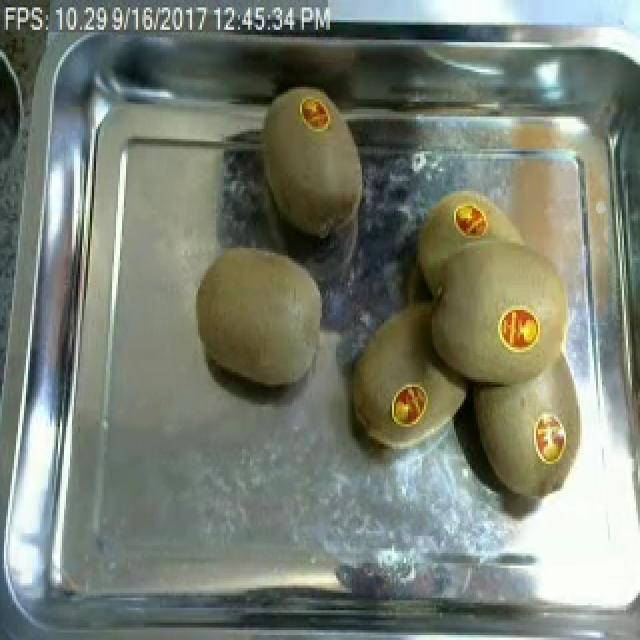Fruit: (398, 149, 610, 397), (188, 236, 332, 394), (248, 77, 374, 248)
